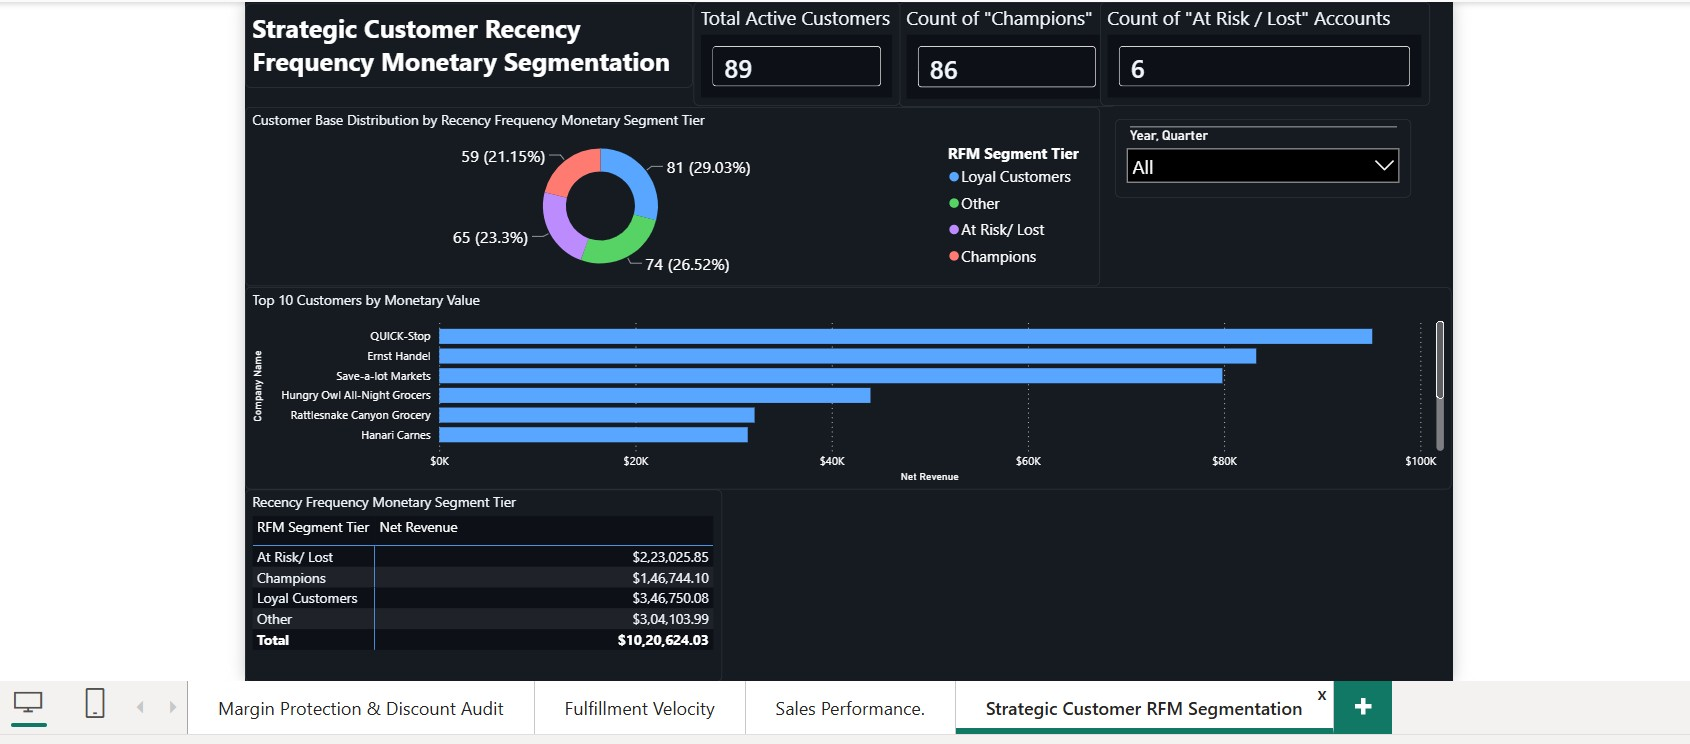

Layout of this report page (visuals, bound fields, positions):
{"tool":"powerbi","page":{"name":"Strategic Customer RFM Segmentation ","canvas":[1280,720],"ordinal":3},"visuals":[{"type":"cardVisual","title":"Count of \"Champions\" ","fields":{"Data":["Fact_Orders.Count of Champions"]},"box":[694.3,0,229.7,111.4],"z":0},{"type":"cardVisual","title":"Total Active Customers","fields":{"Data":["Count(Fact_Orders.Customer ID)"]},"box":[474.9,0,219.4,109.7],"z":1000},{"type":"cardVisual","title":"Count of \"At Risk / Lost\" Accounts","fields":{"Data":["Fact_Orders.Count of At Risk Accounts"]},"box":[906.9,0,349.7,109.7],"z":2000},{"type":"donutChart","title":"Customer Base Distribution by Recency Frequency Monetary Segment Tier","fields":{"Category":["Fact_Orders.RFM Segment Tier 2"],"Y":["Count(Fact_Orders.Customer ID)"]},"box":[0,111.8,906.8,189.9],"z":3000},{"type":"pivotTable","title":"Recency Frequency Monetary Segment Tier","fields":{"Values":["Sum(Fact_Order_Details.Net Revenue)"],"Rows":["Fact_Orders.RFM Segment Tier 2"]},"box":[0,516.4,505.7,204.1],"z":4000},{"type":"clusteredBarChart","title":"Top 10 Customers by Monetary Value","fields":{"Y":["Sum(Fact_Order_Details.Net Revenue)"],"Category":["Dim_Customers.Company Name"]},"box":[0,301.7,1279.4,214.7],"z":5000},{"type":"slicer","fields":{"Values":["Dim_Date.Date.Variation.Date Hierarchy.Year","Dim_Date.Date.Variation.Date Hierarchy.Quarter"]},"box":[922.7,124.2,314.1,83.4],"z":6000},{"type":"textbox","box":[0,1.7,474.9,89.1],"z":7000}]}

Visuals, with their boxes on the page's 1280x720 design canvas (x1, y1, x2, y2). These are canvas units, not pixel positions in the 1690x744 screenshot, which may show the page scaled, cropped or inside an application window:
"Count of "Champions" " cardVisual: [694, 0, 924, 111]
"Total Active Customers" cardVisual: [475, 0, 694, 110]
"Count of "At Risk / Lost" Accounts" cardVisual: [907, 0, 1257, 110]
"Customer Base Distribution by Recency Frequency Monetary Segment Tier" donutChart: [0, 112, 907, 302]
"Recency Frequency Monetary Segment Tier" pivotTable: [0, 516, 506, 720]
"Top 10 Customers by Monetary Value" clusteredBarChart: [0, 302, 1279, 516]
slicer - Dim_Date.Date.Variation.Date Hierarchy.Year x Dim_Date.Date.Variation.Date Hierarchy.Quarter: [923, 124, 1237, 208]
textbox: [0, 2, 475, 91]
